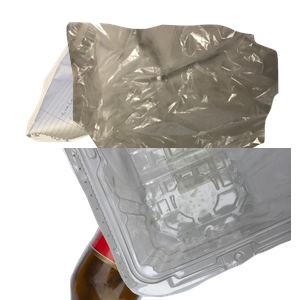glass: (67, 120, 282, 300)
paper: (23, 40, 223, 180)
plastic: (60, 148, 300, 300)
trash: (64, 20, 300, 200)
